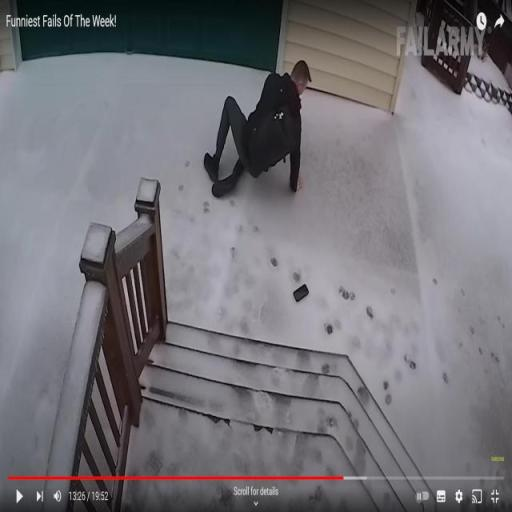Fall: (202, 56, 314, 202)
